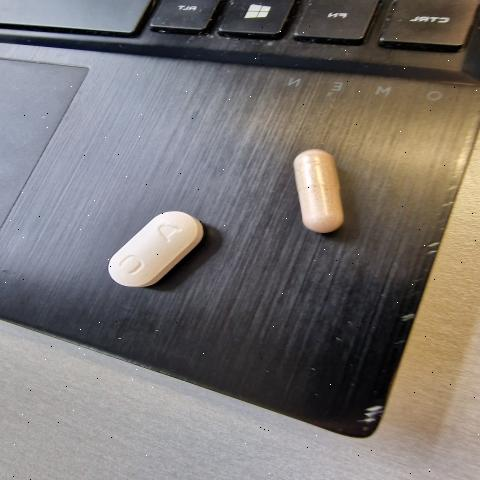Pill: (70, 195, 220, 302), (270, 122, 356, 243)
